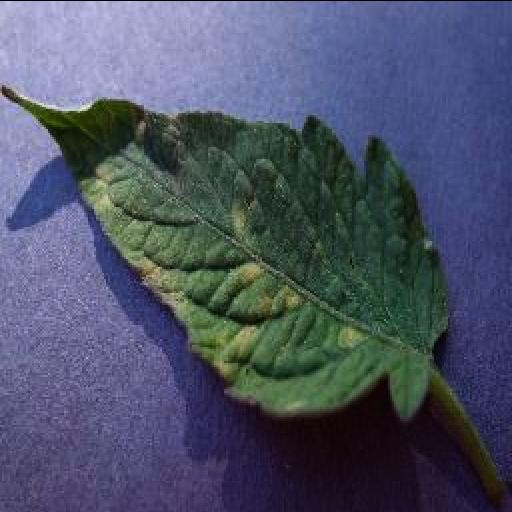disease_tomato: (2, 85, 450, 422)
